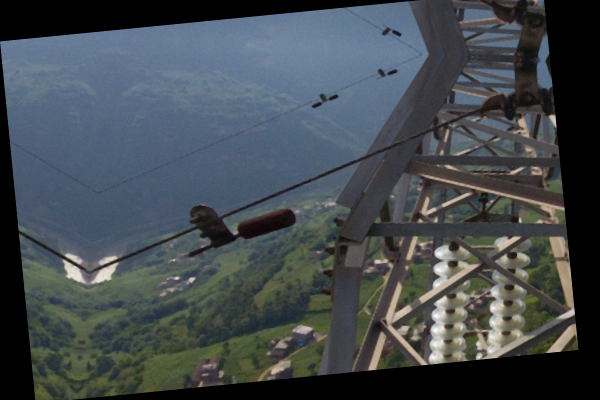damper: (309, 92, 340, 109)
damper_defect: (182, 200, 298, 258), (373, 66, 399, 82), (378, 21, 402, 38)
